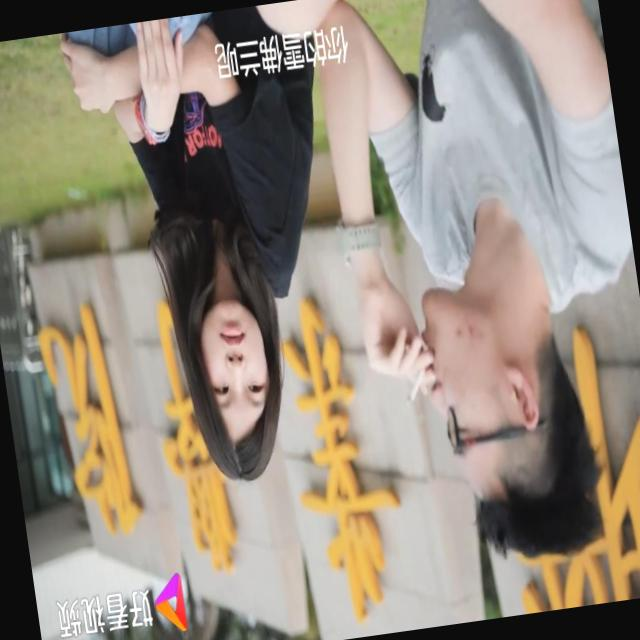cigarette: (396, 350, 441, 416)
